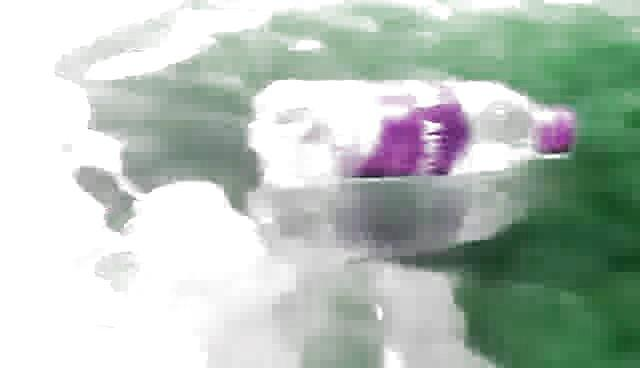Plastic: (242, 68, 582, 188)
